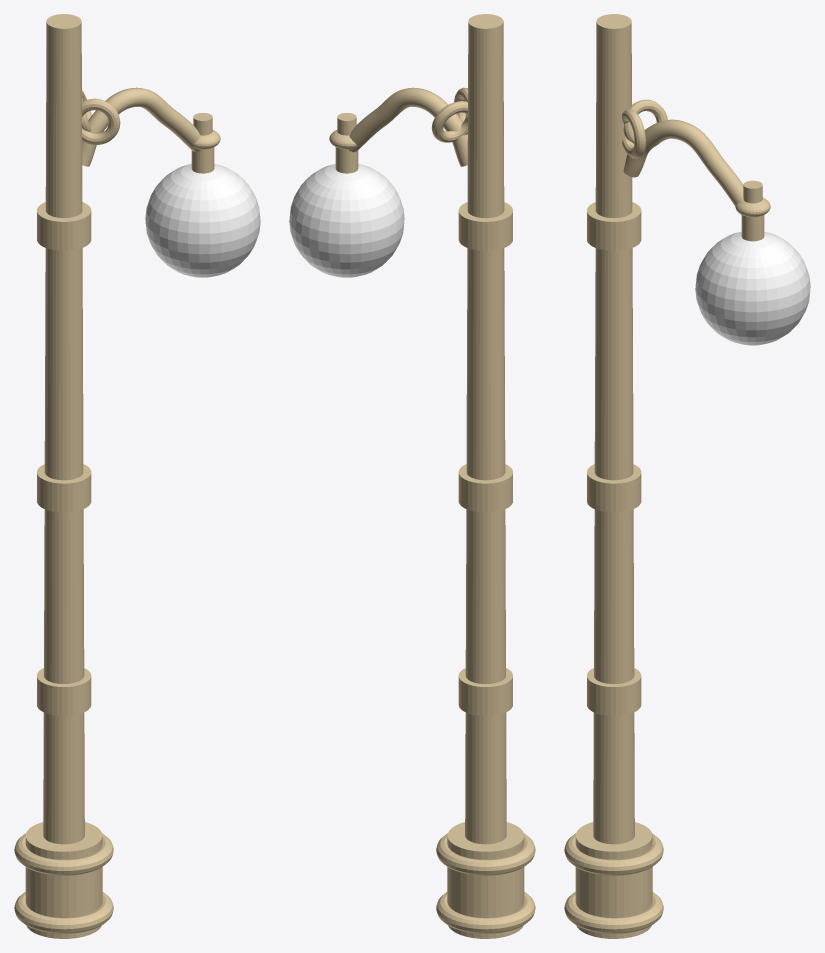
The picture shows the model from 3 angles, left to right: view 1: azimuth 30°, elevation 25°; view 2: azimuth 150°, elevation 25°; view 3: azimuth 330°, elevation 25°; orthographic projection.
Parts seen in each view (by area): view 1: MainPole, GlassGlobe, Base, DecorativeArm, Cylinder.002, Cylinder.001, Cylinder, Torus.001, Torus, Torus.003, Cylinder.003; view 2: MainPole, GlassGlobe, Base, DecorativeArm, Cylinder.002, Cylinder.001, Cylinder, Torus.001, Torus, Torus.002, Cylinder.003; view 3: MainPole, GlassGlobe, Base, DecorativeArm, Cylinder.002, Cylinder.001, Cylinder, Torus.001, Torus, Torus.003, Torus.002, Cylinder.003.
Part boxes in pixels (x1=…): MainPole: x1=43, y1=14, x2=84, y2=844; GlassGlobe: x1=145, y1=164, x2=260, y2=277; Base: x1=25, y1=822, x2=102, y2=938; DecorativeArm: x1=82, y1=87, x2=200, y2=166; Cylinder.002: x1=37, y1=202, x2=91, y2=250; Cylinder.001: x1=37, y1=464, x2=91, y2=512; Cylinder: x1=37, y1=668, x2=91, y2=716; Torus.001: x1=14, y1=833, x2=113, y2=875; Torus: x1=14, y1=892, x2=113, y2=933; Torus.003: x1=82, y1=98, x2=120, y2=144; Cylinder.003: x1=191, y1=147, x2=214, y2=173; MainPole: x1=465, y1=14, x2=506, y2=844; GlassGlobe: x1=289, y1=164, x2=404, y2=277; Base: x1=447, y1=822, x2=524, y2=938; DecorativeArm: x1=349, y1=87, x2=467, y2=166; Cylinder.002: x1=458, y1=202, x2=512, y2=250; Cylinder.001: x1=458, y1=464, x2=512, y2=512; Cylinder: x1=458, y1=668, x2=512, y2=716; Torus.001: x1=436, y1=833, x2=535, y2=875; Torus: x1=436, y1=892, x2=535, y2=933; Torus.002: x1=431, y1=101, x2=467, y2=142; Cylinder.003: x1=335, y1=147, x2=358, y2=173; MainPole: x1=593, y1=14, x2=634, y2=844; GlassGlobe: x1=695, y1=231, x2=810, y2=345; Base: x1=575, y1=822, x2=652, y2=938; DecorativeArm: x1=623, y1=119, x2=743, y2=215; Cylinder.002: x1=587, y1=202, x2=641, y2=250; Cylinder.001: x1=587, y1=464, x2=641, y2=512; Cylinder: x1=587, y1=668, x2=641, y2=716; Torus.001: x1=564, y1=833, x2=663, y2=875; Torus: x1=564, y1=892, x2=663, y2=933; Torus.003: x1=622, y1=109, x2=645, y2=158; Torus.002: x1=623, y1=99, x2=667, y2=146; Cylinder.003: x1=741, y1=215, x2=764, y2=241.
Size of the model in its own units: 0.835 by 3.1 by 0.36.
